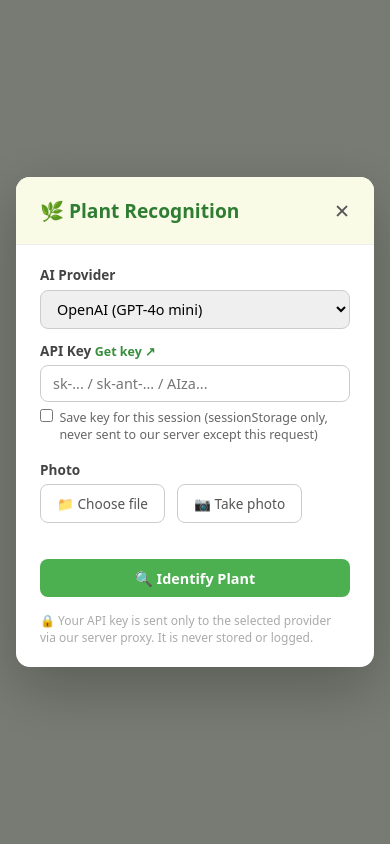
it: PlantRecognitionModal — provider switch › loads stored API key from sessionStorage when provider is changed
Select "Anthropic (Claude Haiku)" in the dropdown at (195, 309), box [40, 290, 350, 329]
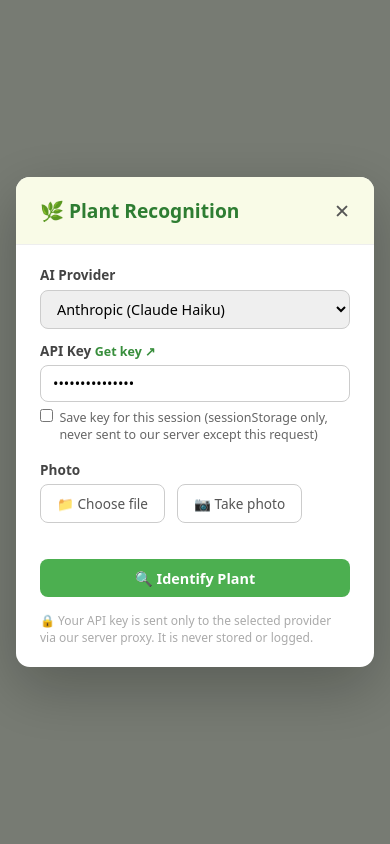
Check: the password field with placeholder "sk-... / sk-ant-... / AIza..." holds "sk-ant-test-key", box [40, 365, 350, 402]
